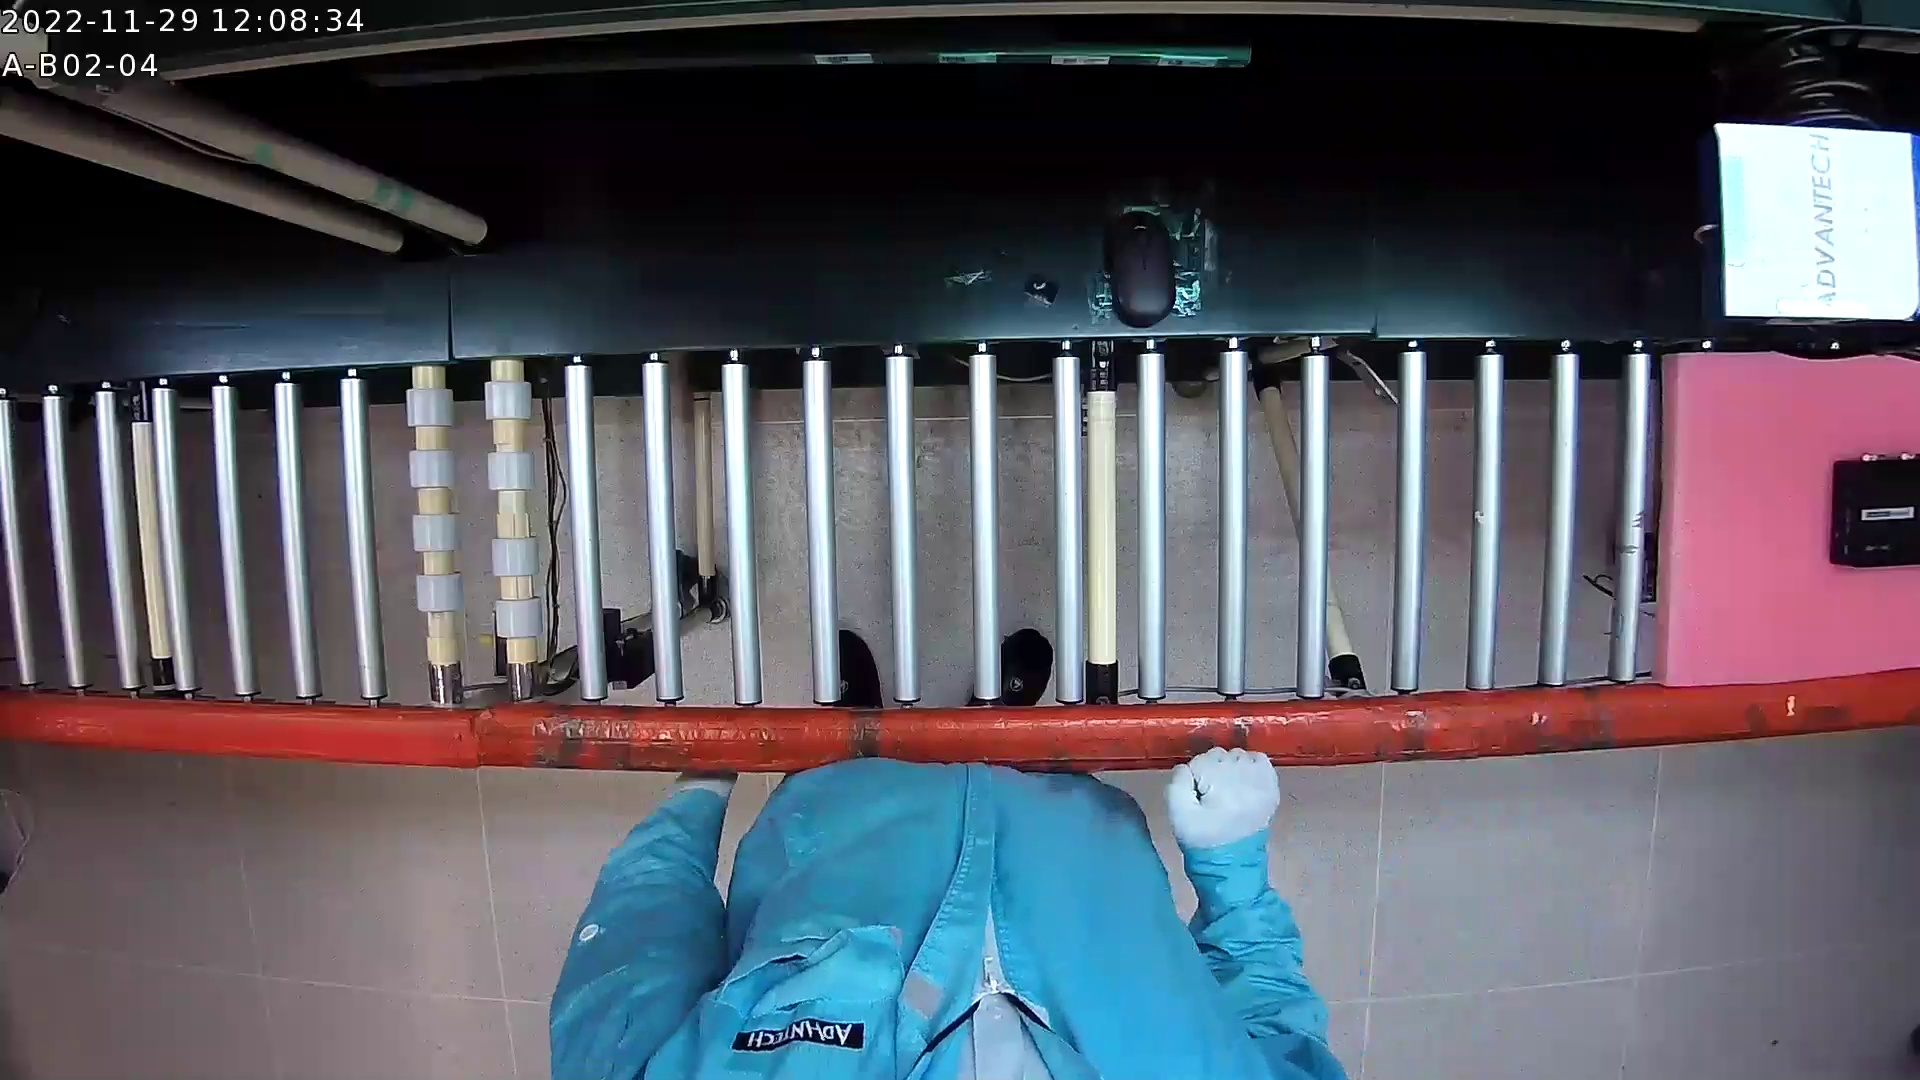foam: (1651, 338, 1917, 685)
hand: (1157, 722, 1351, 1079), (549, 728, 729, 1075)
people: (523, 700, 1374, 1079)
